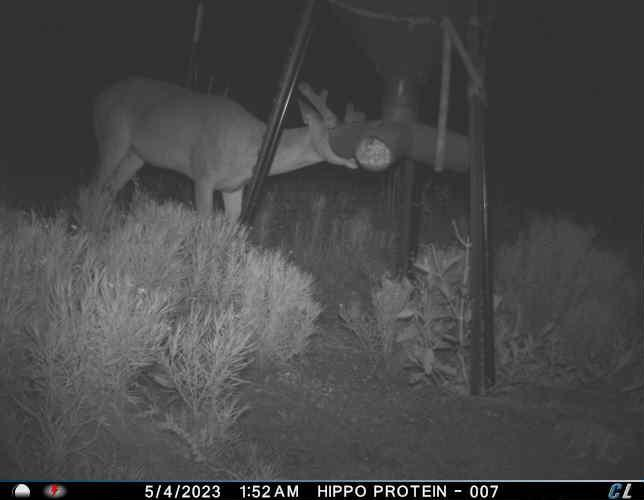Deer: (81, 70, 368, 231)
